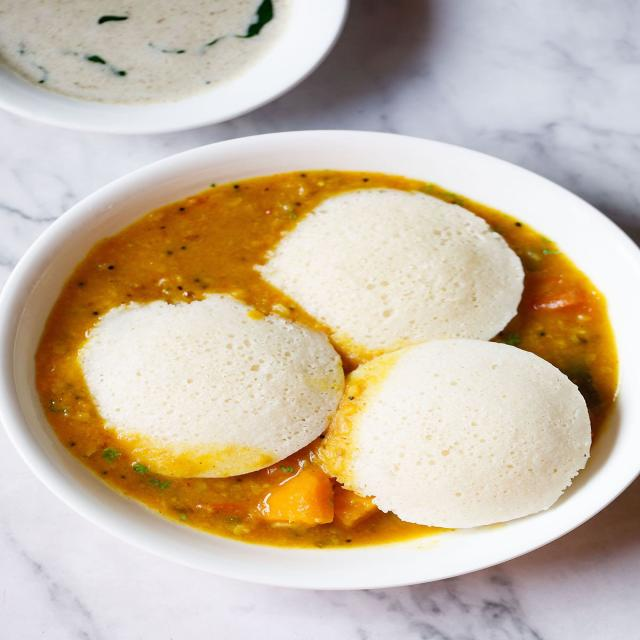IDLI: (43, 283, 343, 481), (311, 344, 590, 525), (264, 189, 522, 356)
